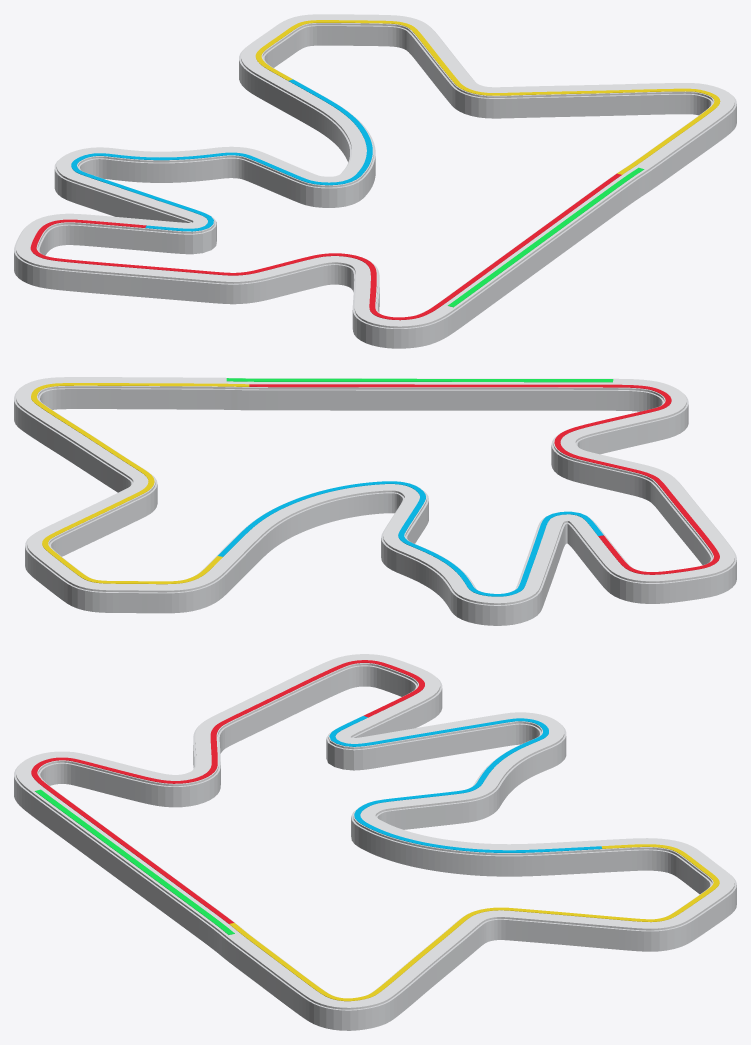
The model's file is LusailCircuit.glb.
3 views of the same model, one above another, from view 1: azimuth 30°, elevation 25°; view 2: azimuth 150°, elevation 25°; view 3: azimuth 270°, elevation 25° (orthographic). The views are drawn at different scales.
Parts seen in each view (by area): view 1: LusailOutline, LusailTrack, SectorStrip_1, SectorStrip_3, SectorStrip_2, DrsStrip_1; view 2: LusailOutline, LusailTrack, SectorStrip_1, SectorStrip_3, SectorStrip_2, DrsStrip_1; view 3: LusailOutline, LusailTrack, SectorStrip_1, SectorStrip_3, SectorStrip_2, DrsStrip_1.
Boxes of the visible parts, <box> form: LusailOutline: <box>14,25,736,348</box>; LusailTrack: <box>16,14,734,328</box>; SectorStrip_1: <box>30,173,621,320</box>; SectorStrip_3: <box>255,20,720,174</box>; SectorStrip_2: <box>71,79,372,231</box>; DrsStrip_1: <box>448,167,644,307</box>; LusailOutline: <box>14,388,736,625</box>; LusailTrack: <box>16,377,734,604</box>; SectorStrip_1: <box>249,384,719,574</box>; SectorStrip_3: <box>31,383,249,584</box>; SectorStrip_2: <box>218,481,603,596</box>; DrsStrip_1: <box>226,378,613,382</box>; LusailOutline: <box>14,665,736,1030</box>; LusailTrack: <box>16,654,734,1009</box>; SectorStrip_1: <box>31,660,424,923</box>; SectorStrip_3: <box>229,844,719,1001</box>; SectorStrip_2: <box>329,716,602,852</box>; DrsStrip_1: <box>35,789,234,934</box>.
Bounding box in the file's own units: 16.52 × 0.497 × 14.2.
